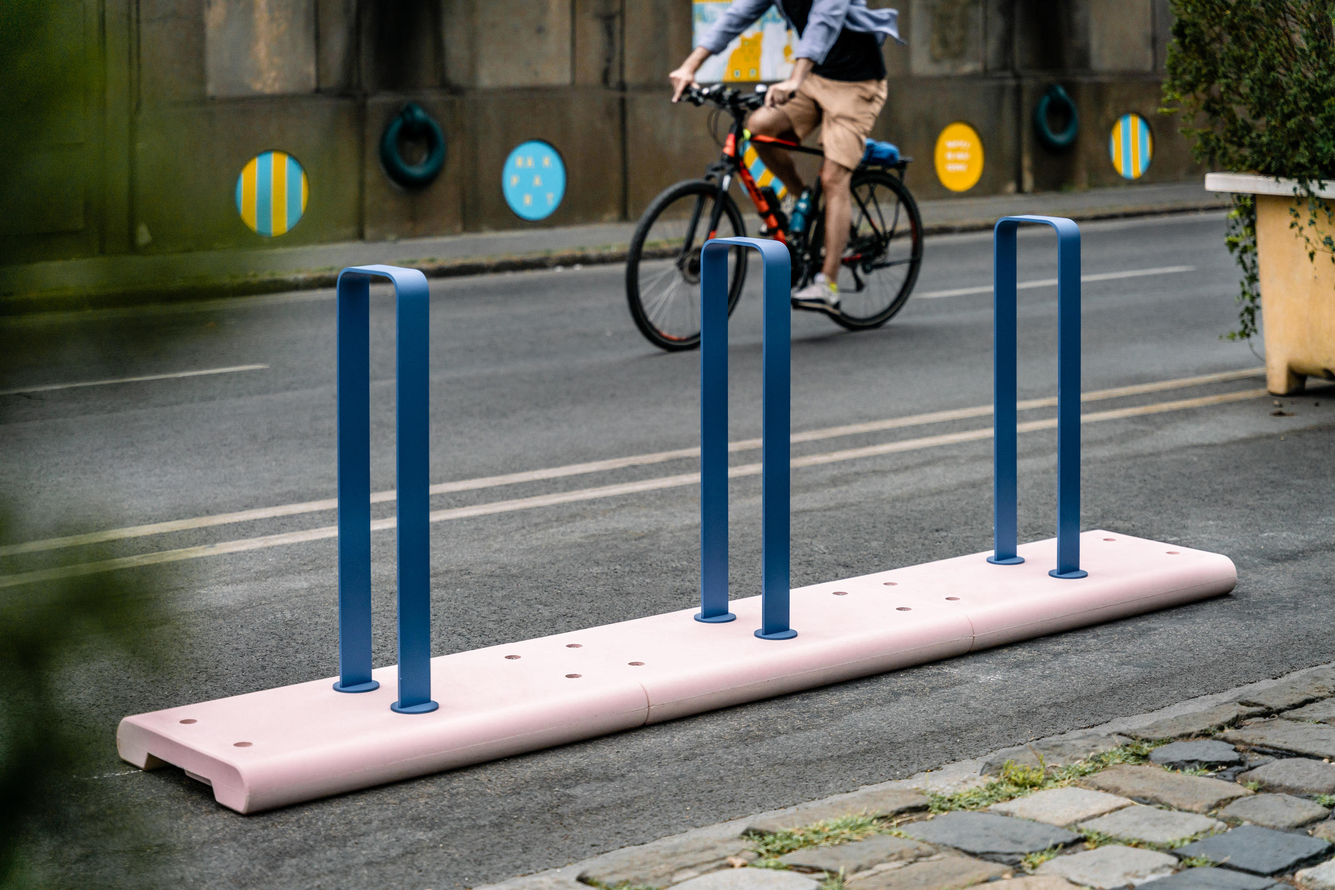Bicycle: (619, 85, 957, 348)
